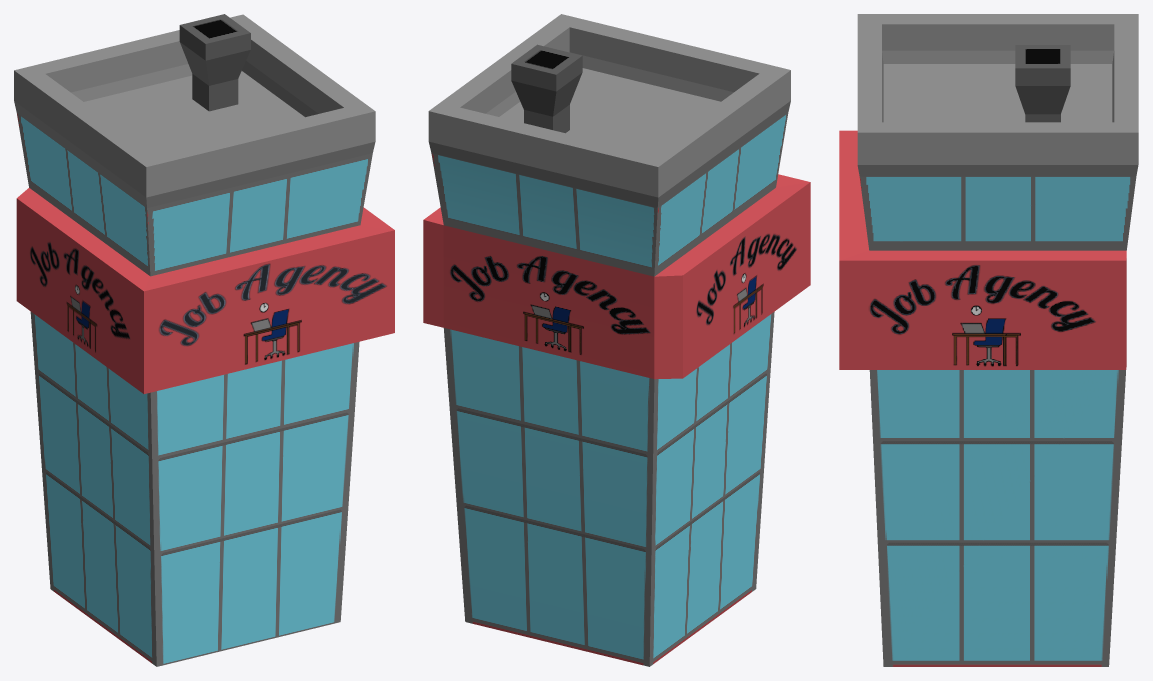
The model's file is JobUpdated.fbx.
The picture shows the model from 3 angles, left to right: view 1: azimuth 30°, elevation 25°; view 2: azimuth 150°, elevation 25°; view 3: azimuth 270°, elevation 25°; orthographic projection. The views are drawn at different scales.
Parts seen in each view (by area): view 1: pCube3; view 2: pCube3; view 3: pCube3.
Boxes of the visible parts, x1,y1,x2,y2 form: pCube3: [14, 14, 394, 666]; pCube3: [423, 14, 810, 666]; pCube3: [839, 14, 1138, 666].
Bounding box in the file's own units: 5.14 × 10.77 × 4.99.
